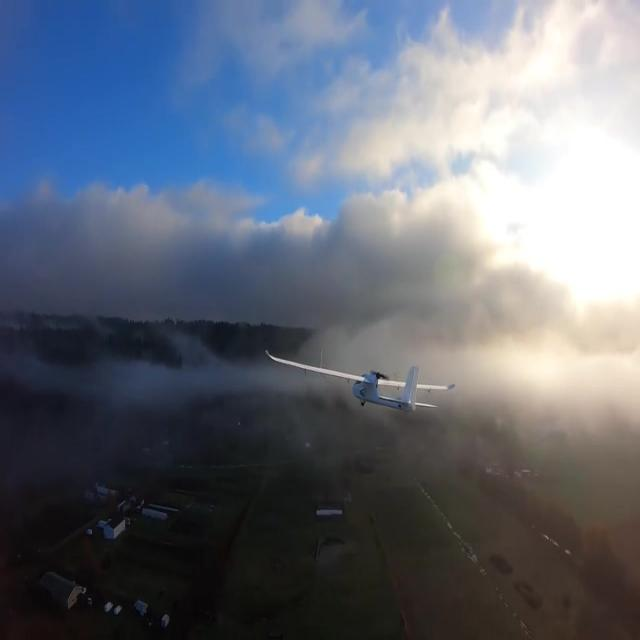iha: (265, 379, 457, 384)
